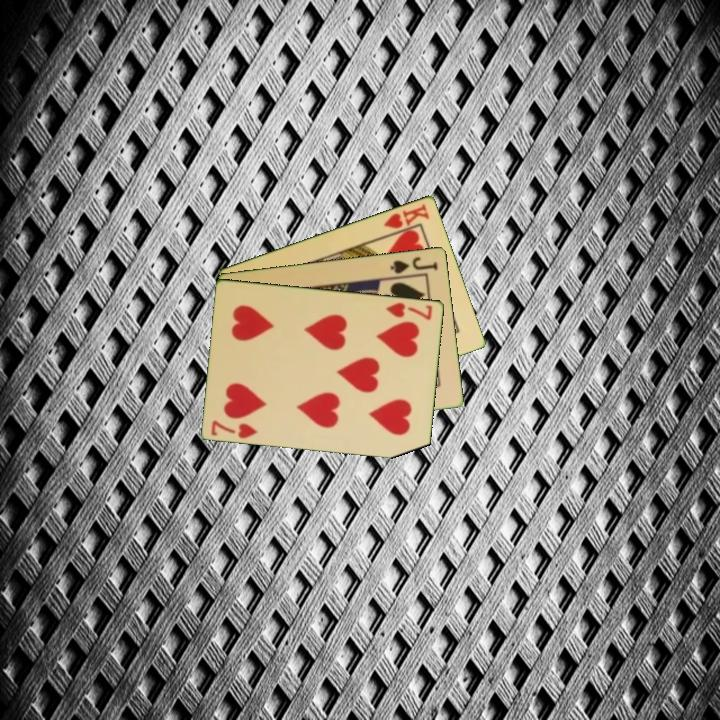7h: (208, 416, 261, 441), (383, 299, 435, 323)
Js: (387, 253, 441, 276)
Kh: (380, 200, 432, 238)
